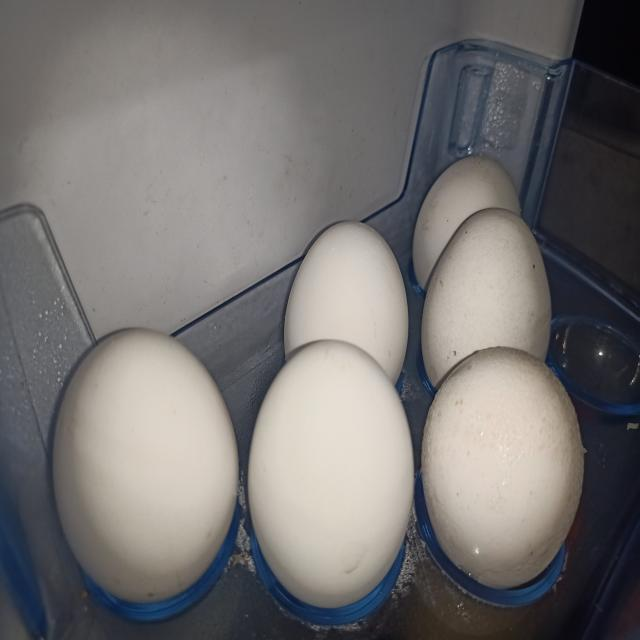Egg: (52, 329, 239, 622), (248, 340, 414, 609), (422, 347, 585, 589), (422, 208, 552, 388), (284, 221, 409, 385), (413, 155, 521, 290)
